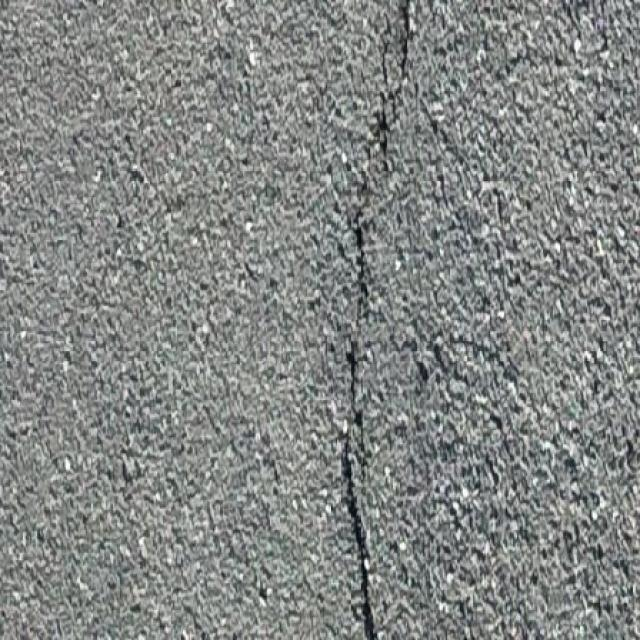Alligator Crack: (428, 326, 541, 482)
Vertical Crack: (317, 0, 415, 640)
